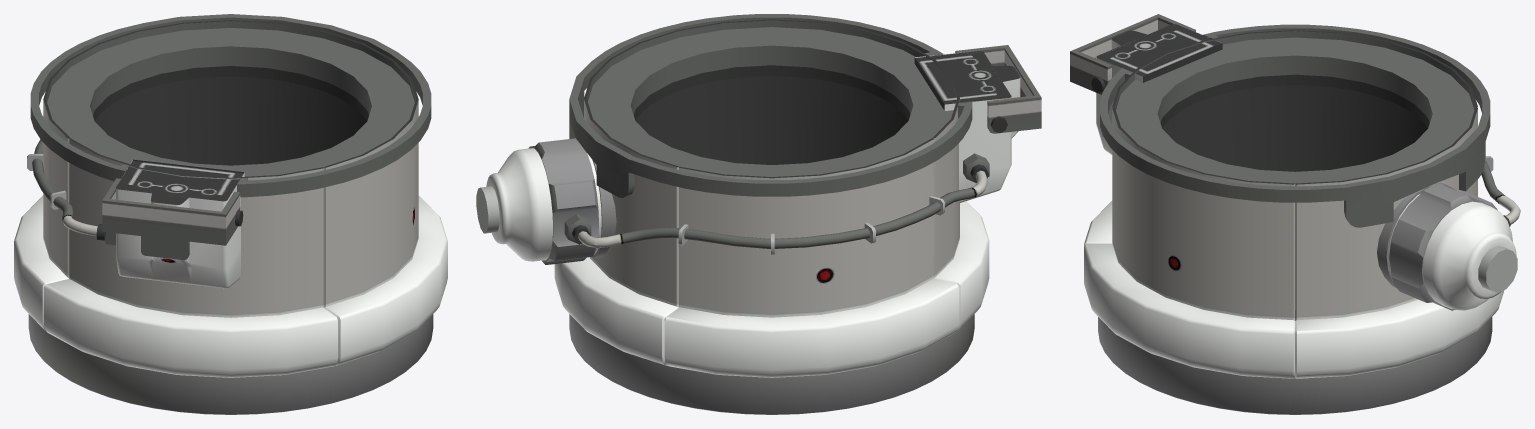
Rendered from gel_white.glb.
3 views of the same model, side by side, from view 1: azimuth 30°, elevation 25°; view 2: azimuth 150°, elevation 25°; view 3: azimuth 270°, elevation 25° (orthographic). The views are drawn at different scales.
Visible parts, largest first — view 1: EDITOR_paint_dropper.004; view 2: EDITOR_paint_dropper.004; view 3: EDITOR_paint_dropper.004.
Boxes of the visible parts, x1=… form: EDITOR_paint_dropper.004: x1=14, y1=14, x2=447, y2=414; EDITOR_paint_dropper.004: x1=476, y1=14, x2=1041, y2=414; EDITOR_paint_dropper.004: x1=1070, y1=14, x2=1520, y2=414.
Size of the model in its own units: 1.52 by 0.894 by 1.54.
1 material, 1 textured.
